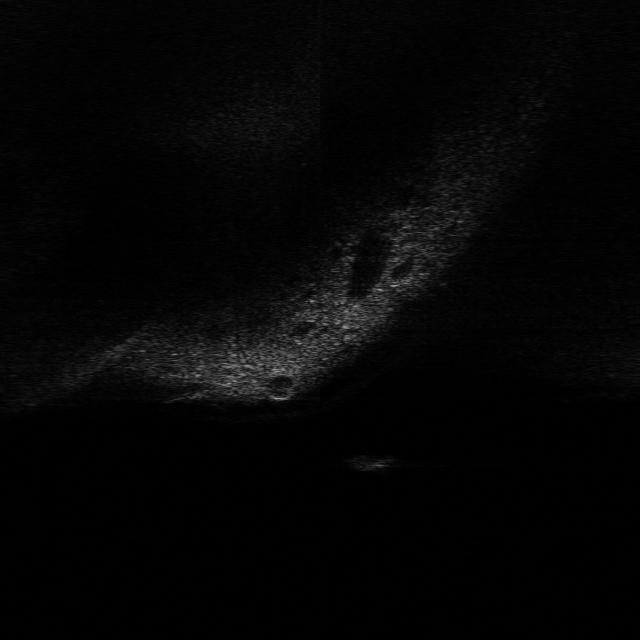cube: (339, 451, 398, 474)
